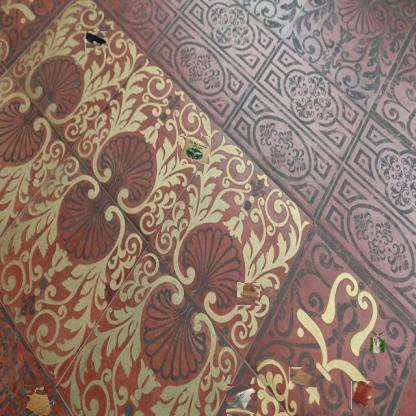dirty: (177, 136, 211, 164), (226, 385, 256, 415), (291, 366, 314, 389), (237, 283, 259, 305), (367, 332, 387, 356), (85, 32, 108, 50)
liquid: (24, 385, 54, 415), (351, 382, 374, 410)
